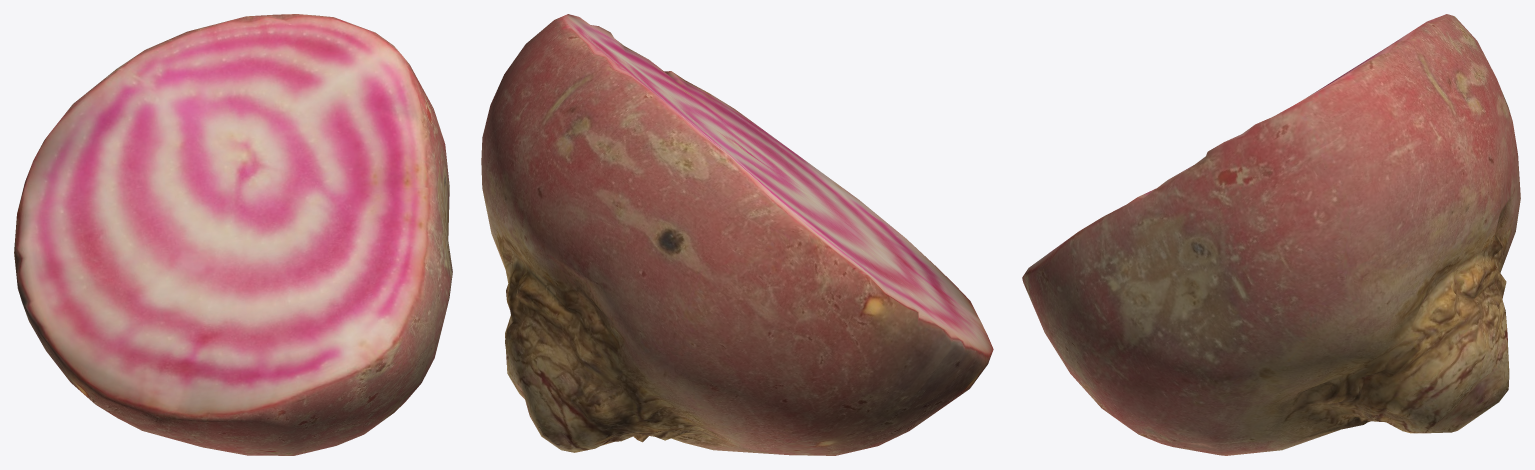
3 renders of one model, left to right at view 1: azimuth 30°, elevation 25°; view 2: azimuth 150°, elevation 25°; view 3: azimuth 270°, elevation 25°, orthographic. The views are drawn at different scales.
Visible parts, largest first — view 1: 22_beetroot; view 2: 22_beetroot; view 3: 22_beetroot.
Part boxes in pixels (x1,y1,x2,y2): 22_beetroot: (14,14,452,455); 22_beetroot: (481,14,993,455); 22_beetroot: (1022,14,1520,455).
Size of the model in its own units: 0.9997 by 0.859 by 0.9054.
Materials: 1 (1 with a texture image).
